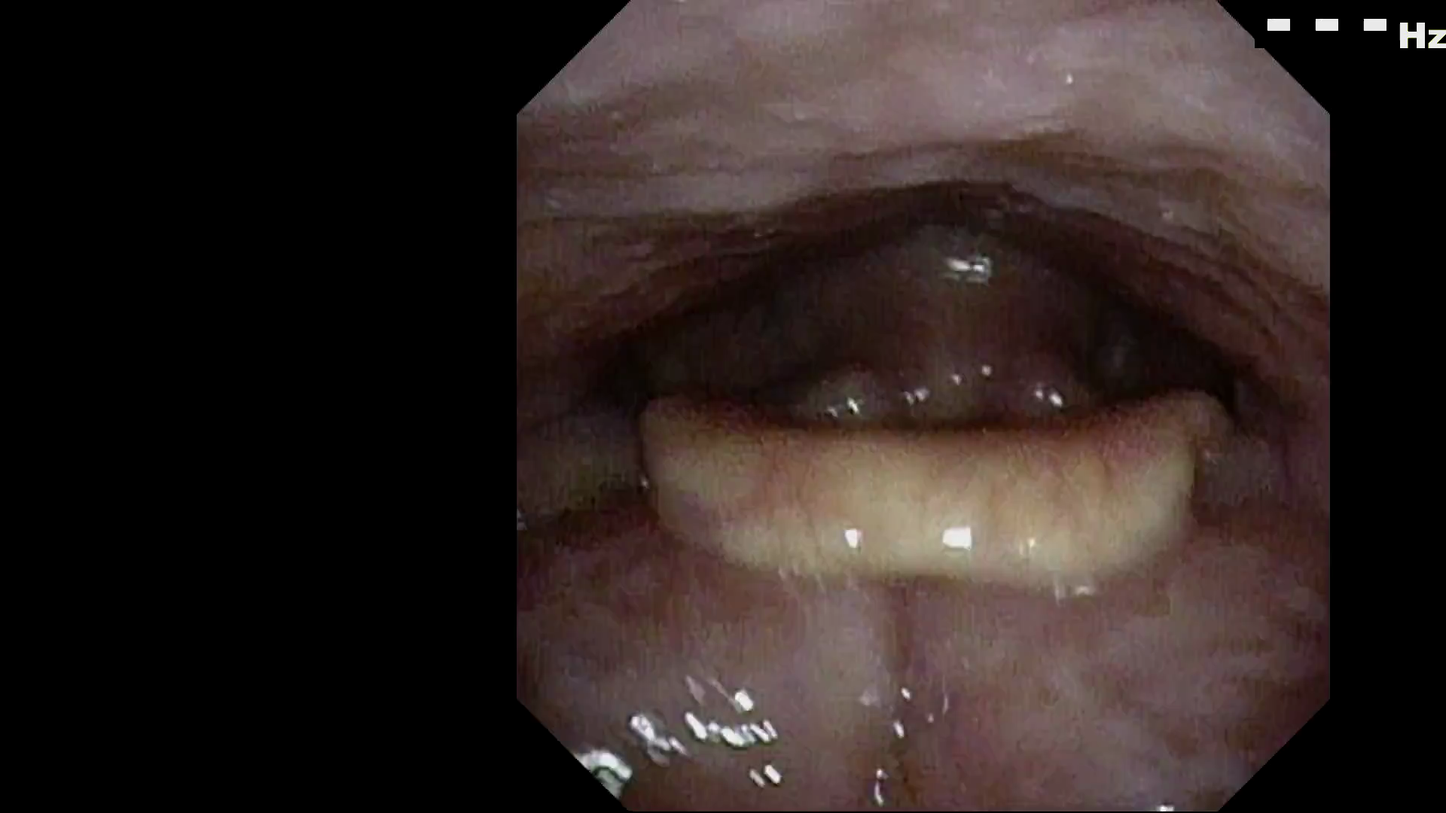epiglottis: (637, 374, 1190, 603)
